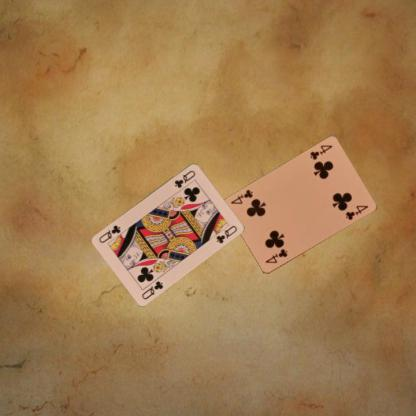4c: (262, 246, 289, 265), (308, 143, 334, 161)
Qc: (139, 278, 164, 300), (172, 167, 196, 189)
